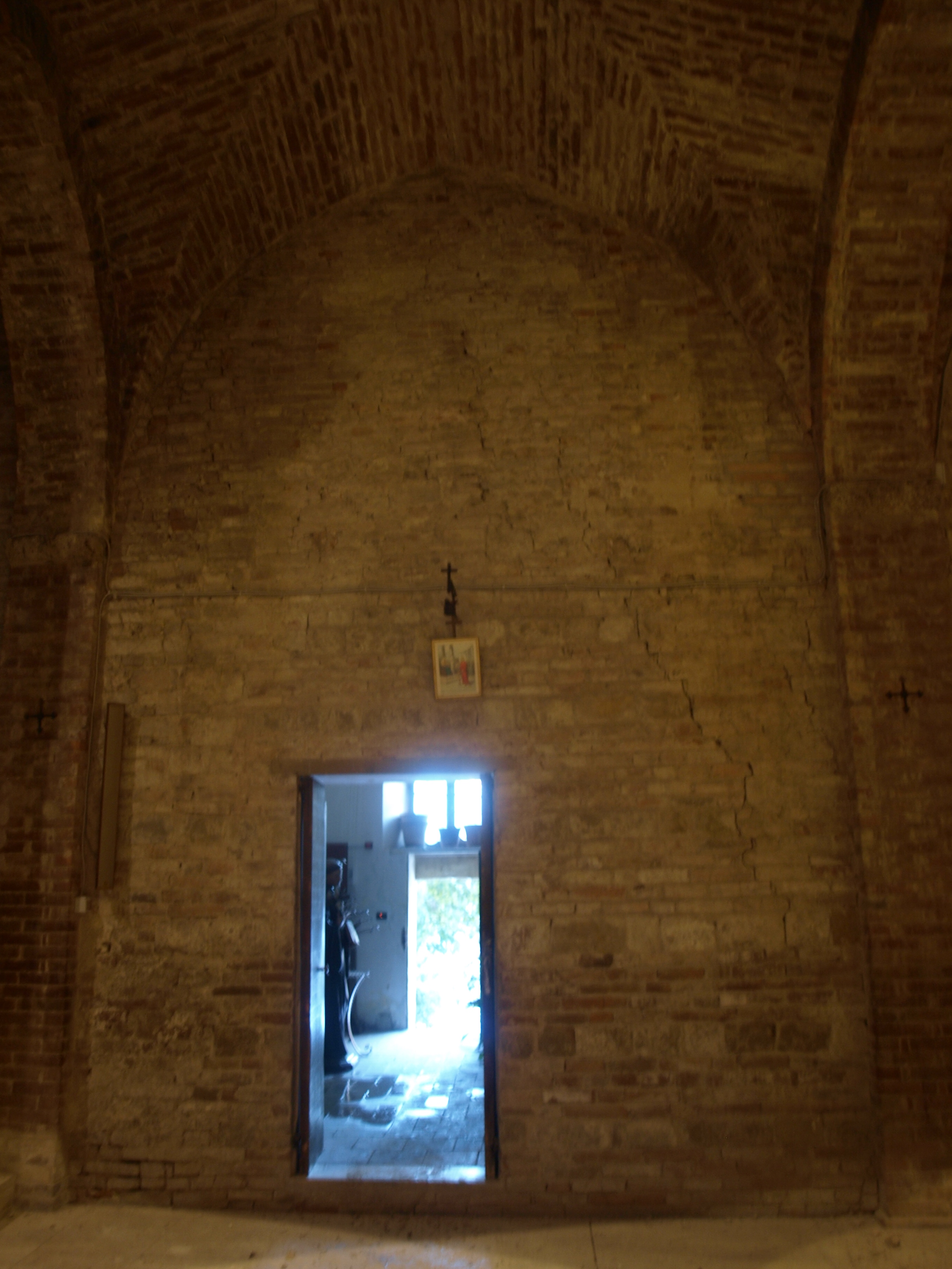Crack: (333, 194, 881, 1111)
